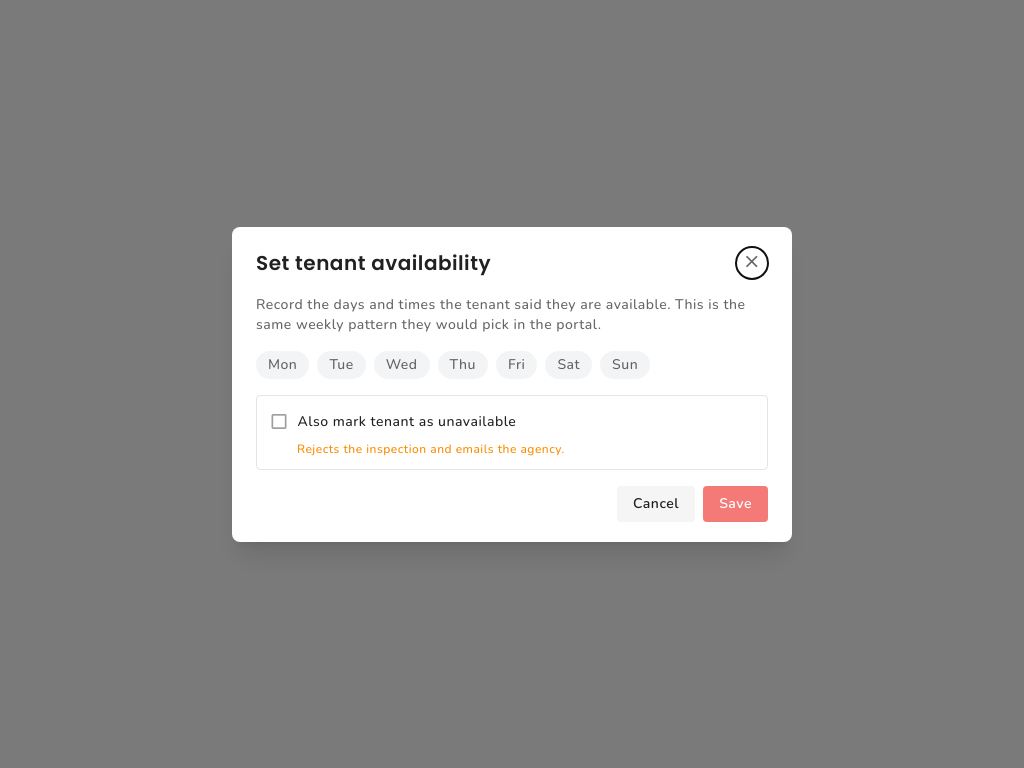
Test: TenantAvailabilityDialog › will not submit a slot whose end is not after its start
Click the button "Mon" at [283, 364], box [256,350,309,378]
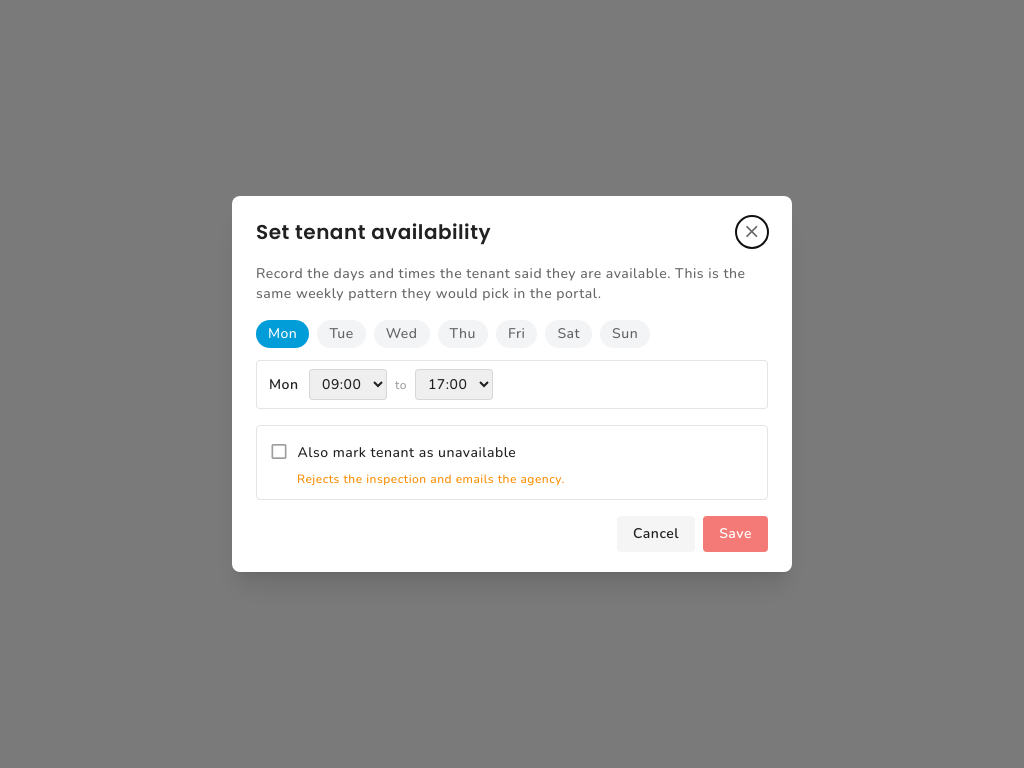
Select "17:00" in the dropdown with test id "start-MON" at [348, 384], box [309,369,387,400]
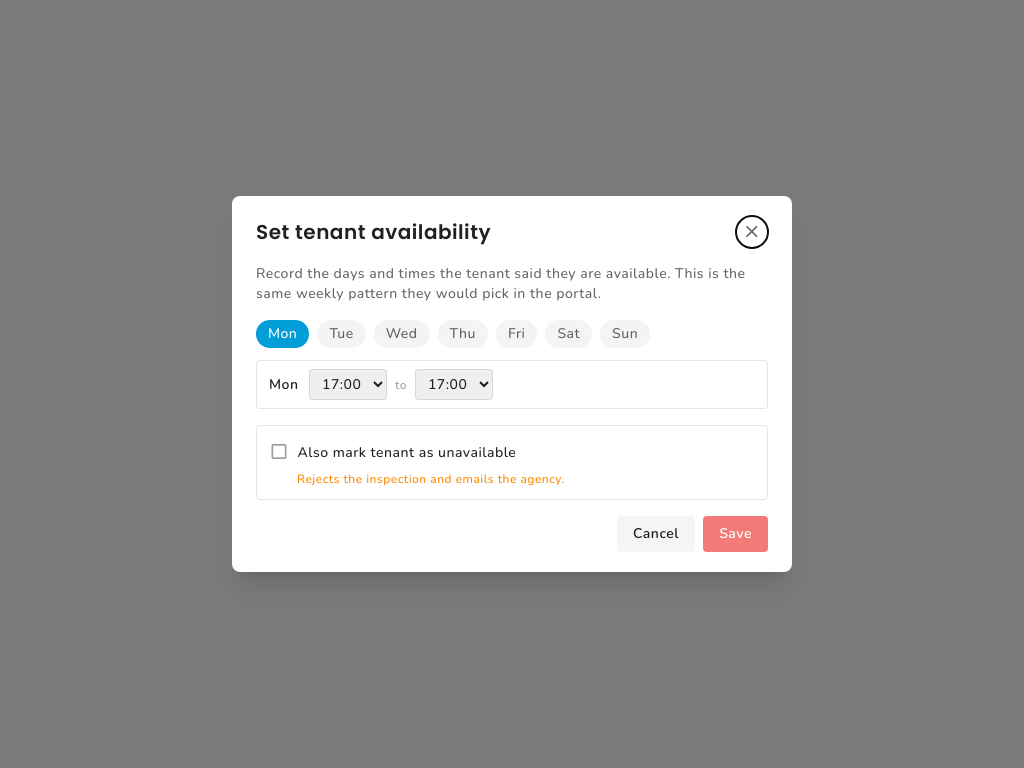
Select "09:00" in the dropdown with test id "end-MON" at [454, 384], box [415,369,493,400]
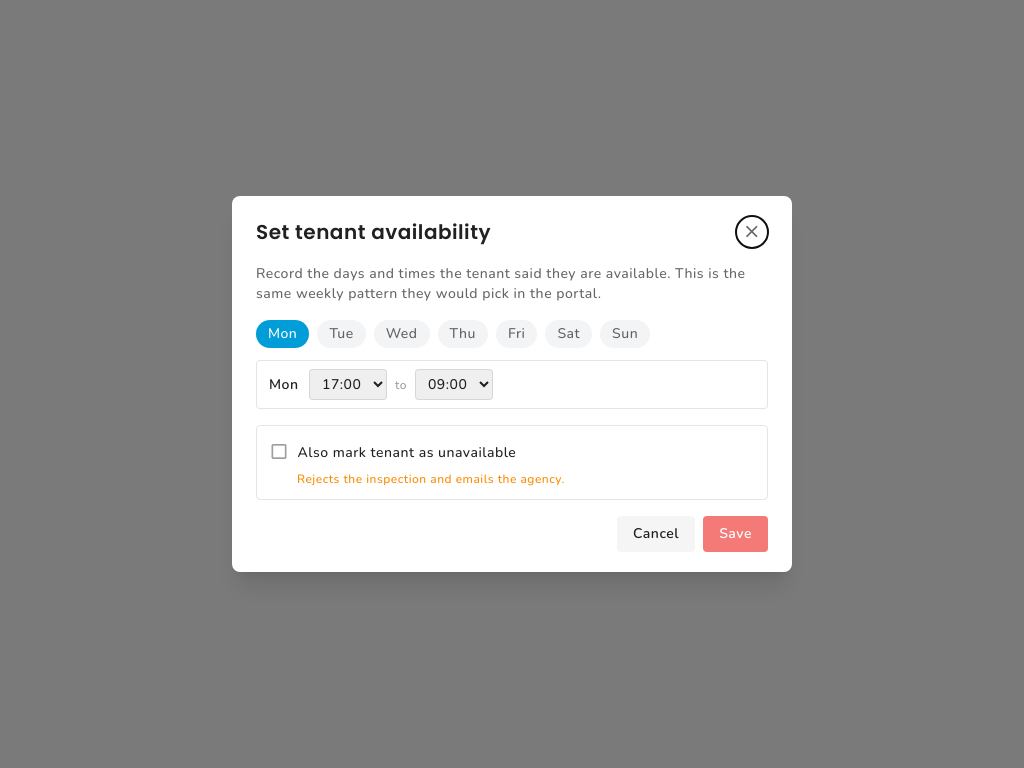
Click the button "Save" at [736, 534], box [703,516,768,552]
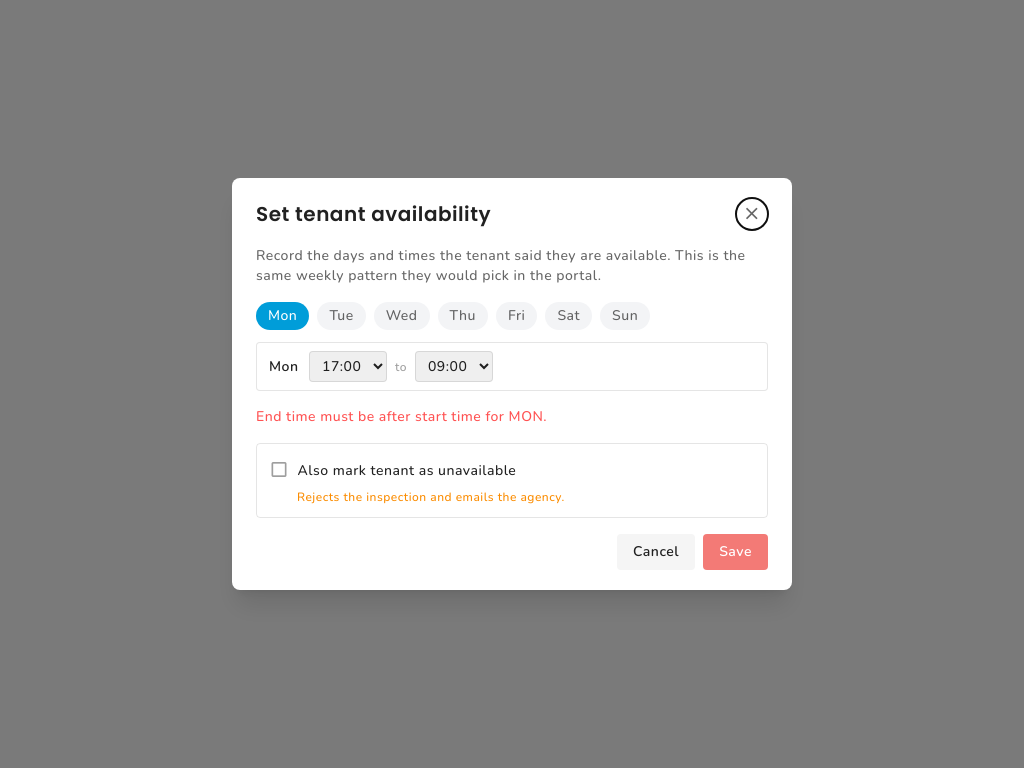
Check: the text "End time must be after start time for MON." is shown, box [256,407,547,426]
